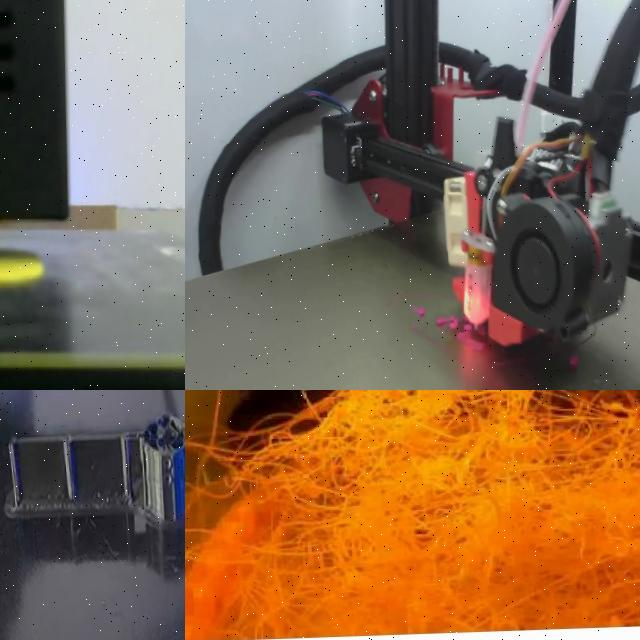spaghetti: (185, 390, 640, 640), (435, 314, 487, 350), (568, 354, 579, 372), (412, 307, 426, 317)
